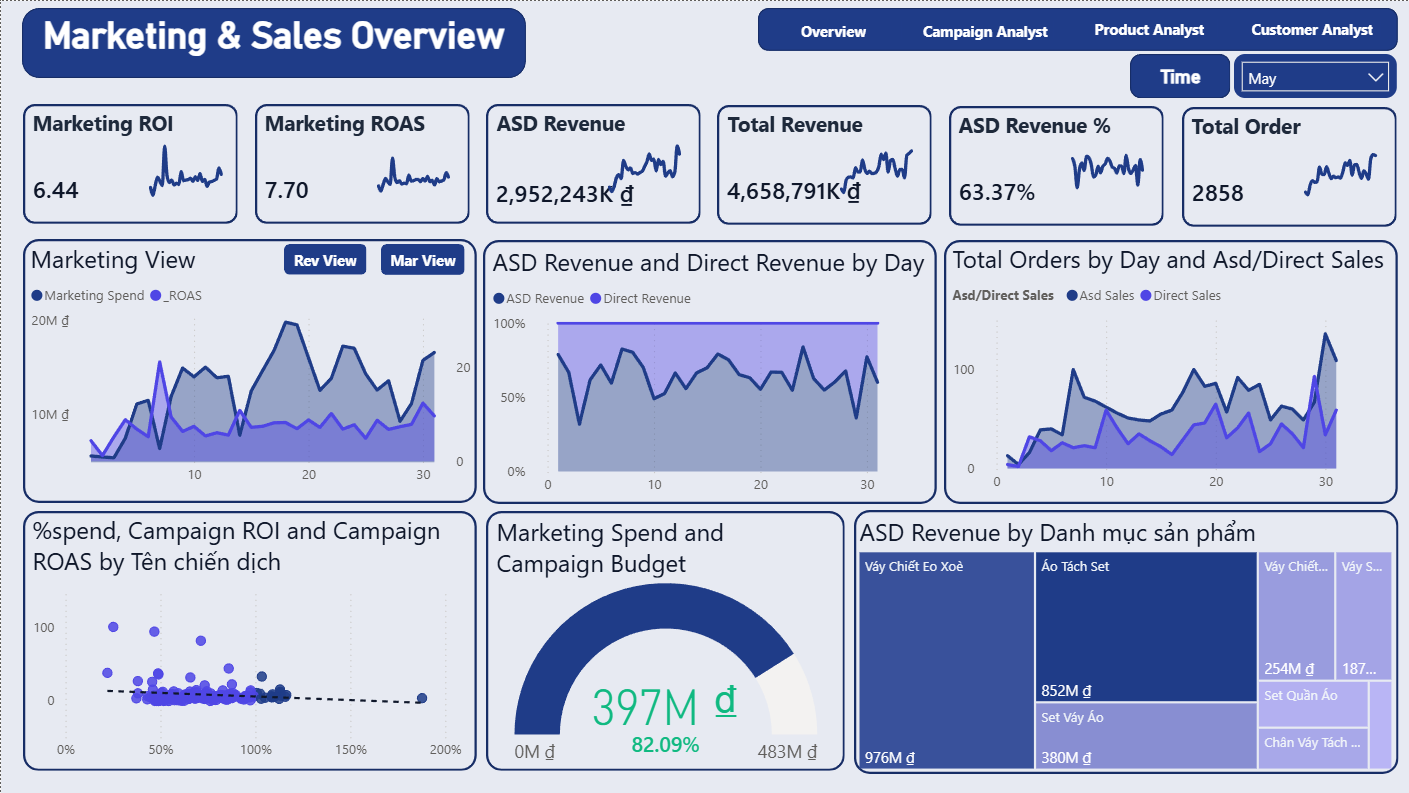

Layout of this report page (visuals, bound fields, positions):
{"tool":"powerbi","page":{"name":"Overview","canvas":[1280,720],"ordinal":0},"visuals":[{"type":"shape","box":[688.4,6.3,581.6,38.9],"z":0,"group":"g8"},{"type":"shape","box":[19.1,6.4,458.2,63.6],"z":0},{"type":"shape","box":[19.8,93.3,195.4,108.9],"z":0,"group":"g4"},{"type":"shape","box":[230.5,93.4,195.4,108.9],"z":0,"group":"g3"},{"type":"shape","box":[440.8,93.4,195.4,108.9],"z":0,"group":"g2"},{"type":"shape","box":[651.4,94.2,195.4,108.9],"z":0,"group":"g1"},{"type":"shape","box":[862,95.4,195.4,108.9],"z":0,"group":"g5"},{"type":"shape","box":[1073.2,96.5,195.4,108.9],"z":0,"group":"g6"},{"type":"shape","box":[441.2,217.5,412.5,240],"z":0,"group":"g7"},{"type":"actionButton","title":"btn_rev","box":[257.4,221,75.1,28],"z":0,"group":"g9"},{"type":"textbox","box":[7.3,6.4,481.8,63.6],"z":1000},{"type":"actionButton","title":"btn_campaign","box":[832.9,11.3,124.4,30.1],"z":1000,"group":"g8"},{"type":"cardVisual","fields":{"Data":["measure.Marketing ROI"]},"box":[0,136.6,153.9,64.7],"z":1000,"group":"g4"},{"type":"cardVisual","fields":{"Data":["measure.Overview ROAS"]},"box":[210.7,136.7,153.9,64.7],"z":1000,"group":"g3"},{"type":"cardVisual","fields":{"Data":["measure.Net Revenue"]},"box":[631.1,138.1,197.2,63.9],"z":1000,"group":"g1"},{"type":"cardVisual","fields":{"Data":["measure.ASD Revenue %"]},"box":[842.2,138.7,153.9,64.7],"z":1000,"group":"g5"},{"type":"cardVisual","fields":{"Data":["measure.Total Orders"]},"box":[1053.4,139.8,153.9,64.7],"z":1000,"group":"g6"},{"type":"cardVisual","fields":{"Data":["measure.ASD Revenue"]},"box":[420.9,141.5,191.7,62.8],"z":1000,"group":"g2"},{"type":"actionButton","title":"btn_mar","box":[345.3,221.2,76.2,28.3],"z":1000,"group":"g9"},{"type":"hundredPercentStackedAreaChart","fields":{"Category":["dim_date.Date.Variation.Date Hierarchy.Day"],"Y":["measure.ASD Revenue","measure.Direct Revenue"]},"box":[445,222.5,408.8,235],"z":1000,"group":"g7"},{"type":"actionButton","title":"btn_product ","box":[982.3,10.1,124.4,30.1],"z":2000,"group":"g8"},{"type":"textbox","box":[24,92.4,184.4,56.1],"z":2000,"group":"g4"},{"type":"textbox","box":[234.7,92.5,184.4,56.1],"z":2000,"group":"g3"},{"type":"textbox","box":[445,92.5,184.4,56.1],"z":2000,"group":"g2"},{"type":"group","id":"g1","title":"Group 2","box":[631.1,93.3,215.6,109.8],"z":2000},{"type":"textbox","box":[655.6,93.3,184.4,56.1],"z":2000,"group":"g1"},{"type":"textbox","box":[866.2,94.5,184.4,56.1],"z":2000,"group":"g5"},{"type":"textbox","box":[1077.4,95.6,184.4,56.1],"z":2000,"group":"g6"},{"type":"actionButton","title":"btn_customer","box":[1130.6,10.1,124.4,30.1],"z":3000,"group":"g8"},{"type":"group","id":"g2","title":"Group 2","box":[420.9,92.5,214.8,111.3],"z":3000},{"type":"lineChart","fields":{"Category":["dim_date.Date.Variation.Date Hierarchy.Day"],"Y":["measure.Overview ROAS"]},"box":[328,115.5,93.6,65.1],"z":3000,"group":"g3"},{"type":"lineChart","fields":{"Category":["dim_date.Day"],"Y":["measure.ASD Revenue"]},"box":[538.3,115.5,93.6,65.1],"z":3000,"group":"g2"},{"type":"lineChart","fields":{"Y":["measure.Net Revenue"],"Category":["dim_date.Date.Variation.Date Hierarchy.Day"]},"box":[748.9,116.3,93.6,65.1],"z":3000,"group":"g1"},{"type":"lineChart","fields":{"Category":["dim_date.Date.Variation.Date Hierarchy.Day"],"Y":["measure.Overview ROI"]},"box":[120.8,116.5,94.3,65.8],"z":3000,"group":"g4"},{"type":"lineChart","fields":{"Category":["dim_date.Date.Variation.Date Hierarchy.Day"],"Y":["measure.ASD Revenue %"]},"box":[959.5,117.5,93.6,65.1],"z":3000,"group":"g5"},{"type":"lineChart","fields":{"Category":["dim_date.Date.Variation.Date Hierarchy.Day"],"Y":["measure.Total Orders"]},"box":[1170.7,118.6,93.6,65.1],"z":3000,"group":"g6"},{"type":"actionButton","title":"btn_overview","box":[694.7,11.3,124.4,30.1],"z":4000,"group":"g8"},{"type":"group","id":"g3","title":"Group 2","box":[210.7,92.5,214.8,109.5],"z":4000},{"type":"group","id":"g4","title":"Group 2","box":[0,92.4,215.2,109.8],"z":5000},{"type":"group","id":"g5","title":"Group 2","box":[842.2,94.5,215.8,110.6],"z":6000},{"type":"group","id":"g6","title":"Group 2","box":[1053.4,95.6,215.8,110.6],"z":7000},{"type":"shape","box":[857.5,217.5,412.5,240],"z":8000},{"type":"shape","box":[20,216.2,412.5,240],"z":9000},{"type":"shape","box":[775,462.5,495,240],"z":10000},{"type":"shape","box":[441.2,463.8,326.2,236.2],"z":11000},{"type":"shape","box":[20,463.8,412.5,236.2],"z":12000},{"type":"areaChart","fields":{"Category":["dim_date.Date.Variation.Date Hierarchy.Day"],"Series":["fact_order.Asd/Direct Sales "],"Y":["measure.Total Orders"]},"box":[860,220,408.8,235],"z":13000},{"type":"gauge","fields":{"MaxValue":["measure.Campaign Budget"],"Y":["measure.Marketing Spend"]},"box":[441.3,468,325.8,234.6],"z":14000},{"type":"cardVisual","fields":{"Data":["measure.%spend"]},"box":[518.8,645,170,57.5],"z":15000},{"type":"treemap","fields":{"Group":["fact_order.Danh mục sản phẩm"],"Values":["measure.ASD Revenue"]},"box":[775.5,468,493.5,234.6],"z":16000},{"type":"lineChart","title":"Marketing View","fields":{"Y":["measure.Product Marketing Spend"],"Y2":["measure._ROAS"],"Category":["dim_date.Date.Variation.Date Hierarchy.Day"]},"box":[21.5,220.3,410.1,228.4],"z":18000},{"type":"group","id":"g7","title":"Group 3","box":[441.2,217.5,412.5,240],"z":19000},{"type":"scatterChart","fields":{"Category":["fact_mkt_camp_by_sku_cost.Tên chiến dịch"],"X":["measure.%spend"],"Y":["measure.Campaign ROI"]},"box":[24,465.9,400.3,232.4],"z":20000},{"type":"slicer","fields":{"Values":["dim_date.Month Short","dim_date.Week of Month Label","dim_date.Day"]},"box":[1120.9,48.1,148.3,40.3],"z":21000},{"type":"shape","box":[1026.6,48.1,91.4,40.3],"z":22000},{"type":"textbox","box":[1034.4,54,75.6,29.5],"z":23000},{"type":"group","id":"g8","title":"Page navigator","box":[688.4,6.3,581.6,38.9],"z":24000},{"type":"group","id":"g9","title":"Bm_mar_rev","box":[257.4,221,164.1,28.5],"z":25000}]}

Visuals, with their boxes in screenshot pixels (x1, y1, x2, y2), scaled from the page's 1280x720 canvas onto the 1409x793 screenshot:
shape: (758,7,1398,50)
shape: (21,7,525,77)
shape: (22,103,237,223)
shape: (254,103,469,223)
shape: (485,103,700,223)
shape: (717,104,932,224)
shape: (949,105,1164,225)
shape: (1181,106,1396,226)
shape: (486,240,940,504)
"btn_rev" actionButton: (283,243,366,274)
textbox: (8,7,538,77)
"btn_campaign" actionButton: (917,12,1054,46)
cardVisual - measure.Marketing ROI: (0,150,169,222)
cardVisual - measure.Overview ROAS: (232,151,401,222)
cardVisual - measure.Net Revenue: (695,152,912,222)
cardVisual - measure.ASD Revenue %: (927,153,1096,224)
cardVisual - measure.Total Orders: (1160,154,1329,225)
cardVisual - measure.ASD Revenue: (463,156,674,225)
"btn_mar" actionButton: (380,244,464,275)
hundredPercentStackedAreaChart - dim_date.Date.Variation.Date Hierarchy.Day x measure.ASD Revenue: (490,245,940,504)
"btn_product " actionButton: (1081,11,1218,44)
textbox: (26,102,229,164)
textbox: (258,102,461,164)
textbox: (490,102,693,164)
"Group 2" group: (695,103,932,224)
textbox: (722,103,925,165)
textbox: (953,104,1156,166)
textbox: (1186,105,1389,167)
"btn_customer" actionButton: (1245,11,1381,44)
"Group 2" group: (463,102,700,224)
lineChart - dim_date.Date.Variation.Date Hierarchy.Day x measure.Overview ROAS: (361,127,464,199)
lineChart - dim_date.Day x measure.ASD Revenue: (593,127,696,199)
lineChart - measure.Net Revenue x dim_date.Date.Variation.Date Hierarchy.Day: (824,128,927,200)
lineChart - dim_date.Date.Variation.Date Hierarchy.Day x measure.Overview ROI: (133,128,237,201)
lineChart - dim_date.Date.Variation.Date Hierarchy.Day x measure.ASD Revenue %: (1056,129,1159,201)
lineChart - dim_date.Date.Variation.Date Hierarchy.Day x measure.Total Orders: (1289,131,1392,202)
"btn_overview" actionButton: (765,12,902,46)
"Group 2" group: (232,102,468,222)
"Group 2" group: (0,102,237,223)
"Group 2" group: (927,104,1165,226)
"Group 2" group: (1160,105,1397,227)
shape: (944,240,1398,504)
shape: (22,238,476,502)
shape: (853,509,1398,774)
shape: (486,511,845,771)
shape: (22,511,476,771)
areaChart - dim_date.Date.Variation.Date Hierarchy.Day x fact_order.Asd/Direct Sales : (947,242,1397,501)
gauge - measure.Campaign Budget x measure.Marketing Spend: (486,515,844,774)
cardVisual - measure.%spend: (571,710,758,774)
treemap - fact_order.Danh mục sản phẩm x measure.ASD Revenue: (854,515,1397,774)
"Marketing View" lineChart: (24,243,475,494)
"Group 3" group: (486,240,940,504)
scatterChart - fact_mkt_camp_by_sku_cost.Tên chiến dịch x measure.%spend: (26,513,467,769)
slicer - dim_date.Month Short x dim_date.Week of Month Label: (1234,53,1397,97)
shape: (1130,53,1231,97)
textbox: (1139,59,1222,92)
"Page navigator" group: (758,7,1398,50)
"Bm_mar_rev" group: (283,243,464,275)
